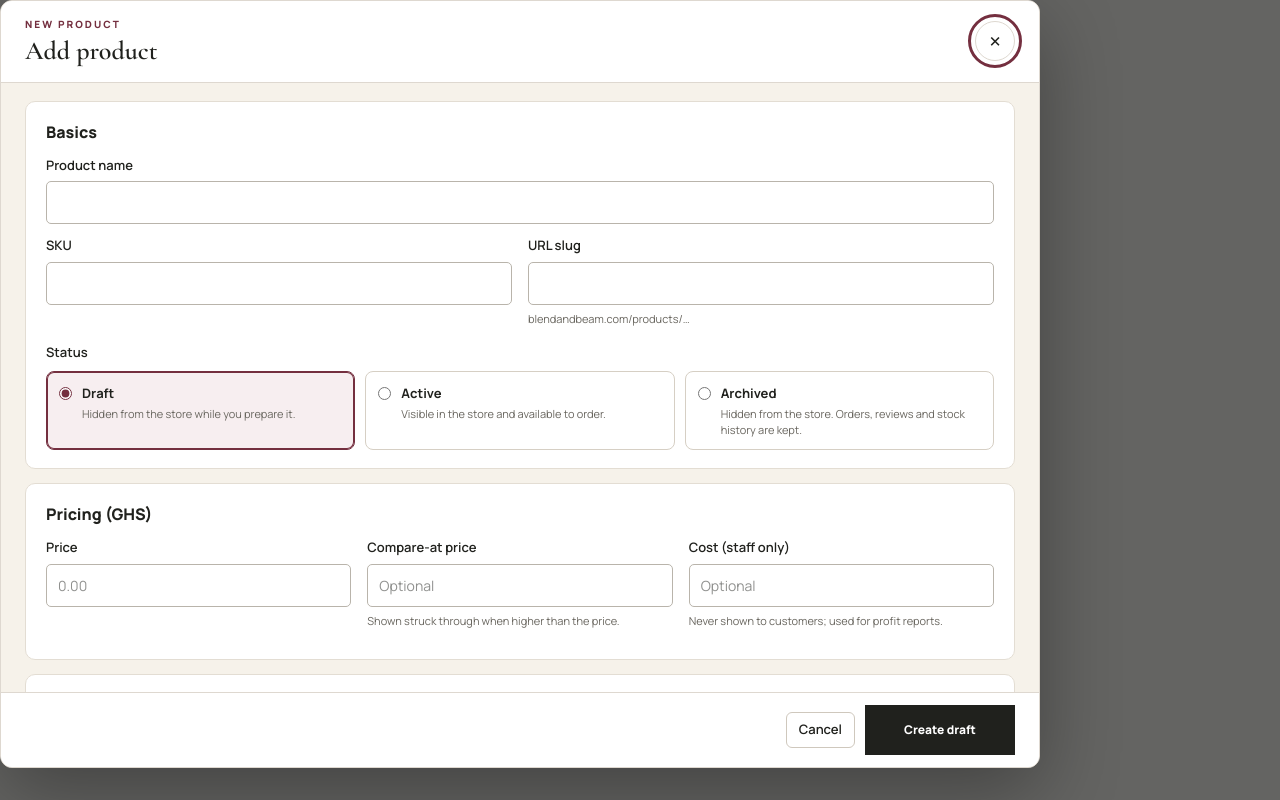
product editor popup › creates with labelled fields, category/brand choices and a status-aware action
The image size is (1280, 800).
Expected: the heading "Add product" is shown, [25,36,158,66]
Type "Hydraulic Barber Chair" into the field labelled "Product name" at (520, 203), box [46,181,994,224]
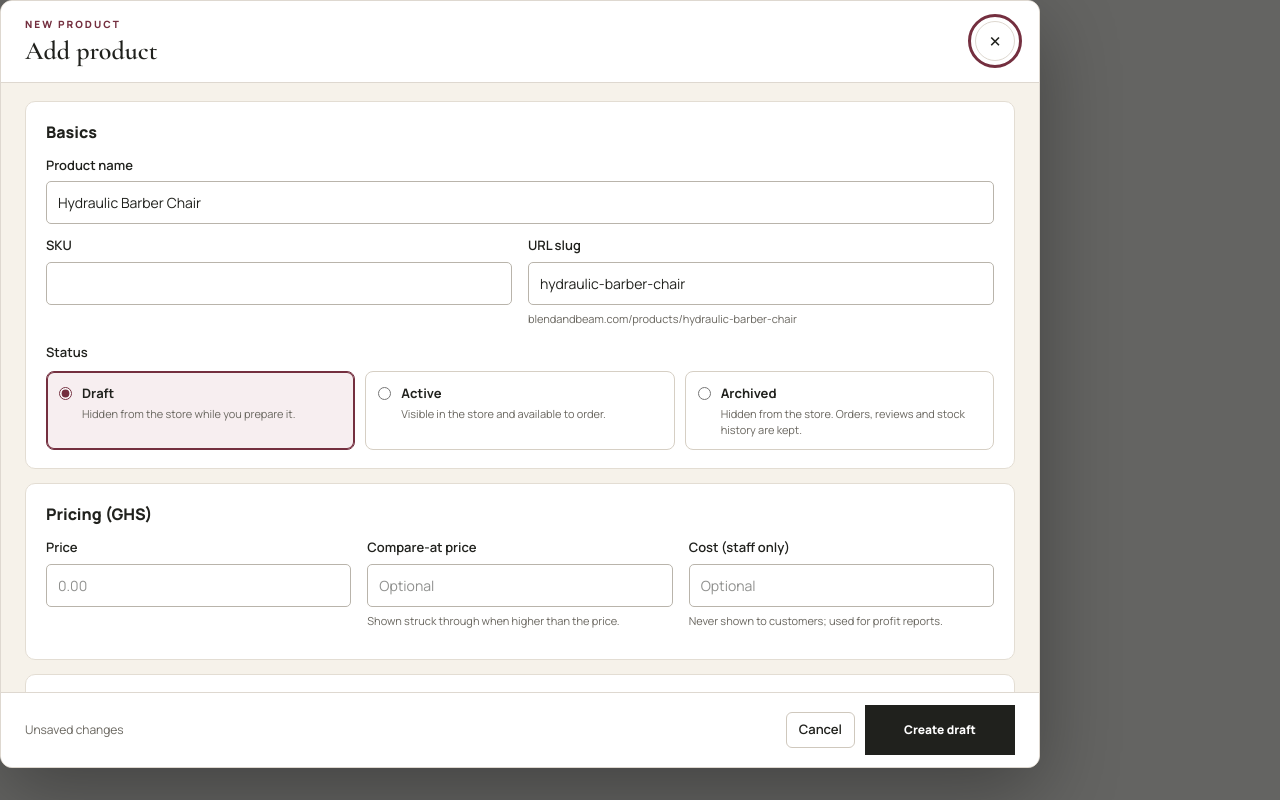
Expected: the button "Create draft" is shown, [865,705,1015,755]
Expected: the field labelled "URL slug" holds "hydraulic-barber-chair", [528,262,994,305]
Click the radio button labelled "Active Visible in the store and available to order." at (385, 393), box [378,387,391,400]
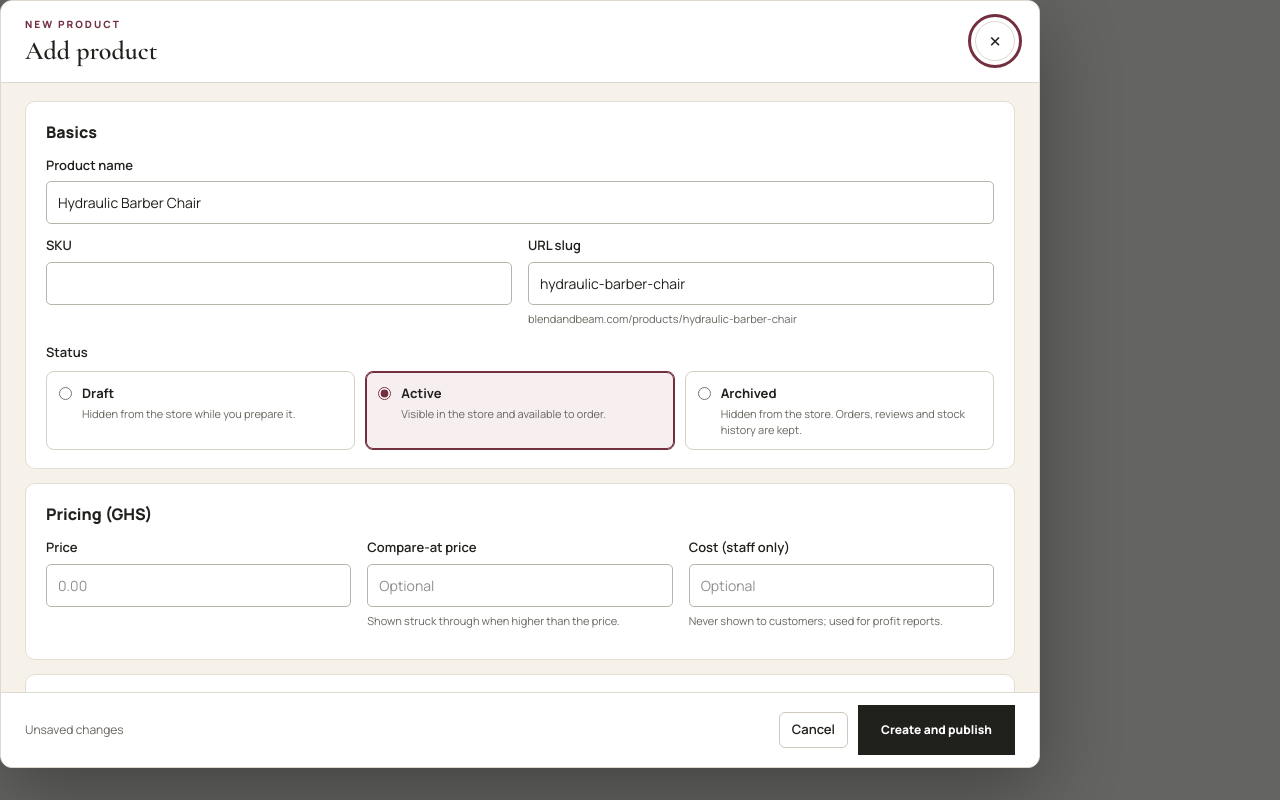
Expected: the button "Create and publish" is shown, [858,705,1015,755]
